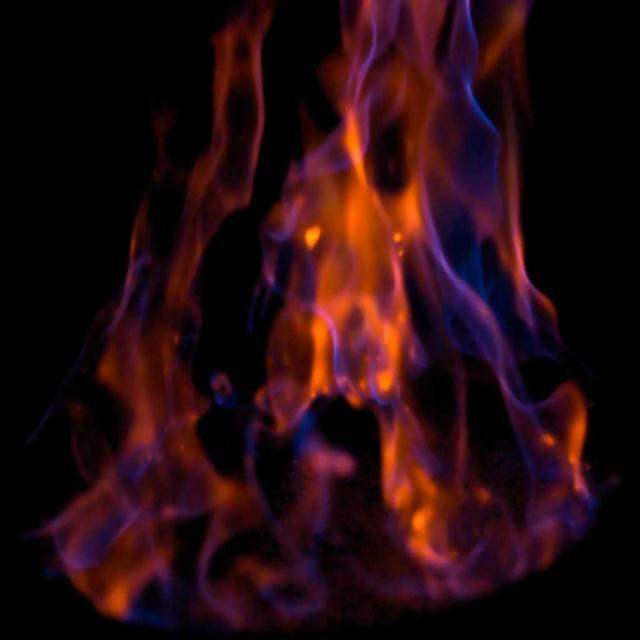Fire: (106, 21, 524, 614)
